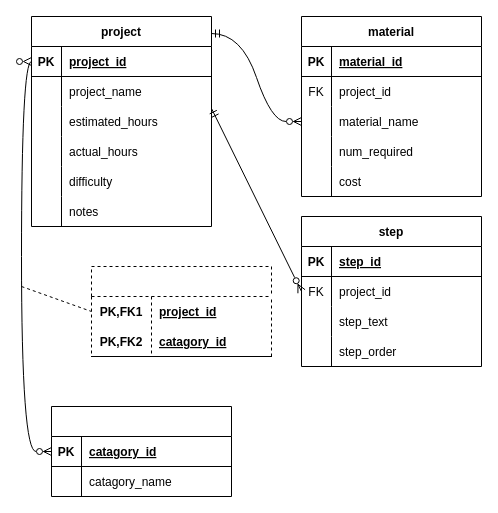
This 498x513 diagram has some shape labels left out. The box of each missing label's shape, as (x1, y1, x2, y2) in pixels:
category: (50, 406, 232, 496)
project_category: (90, 266, 272, 356)
